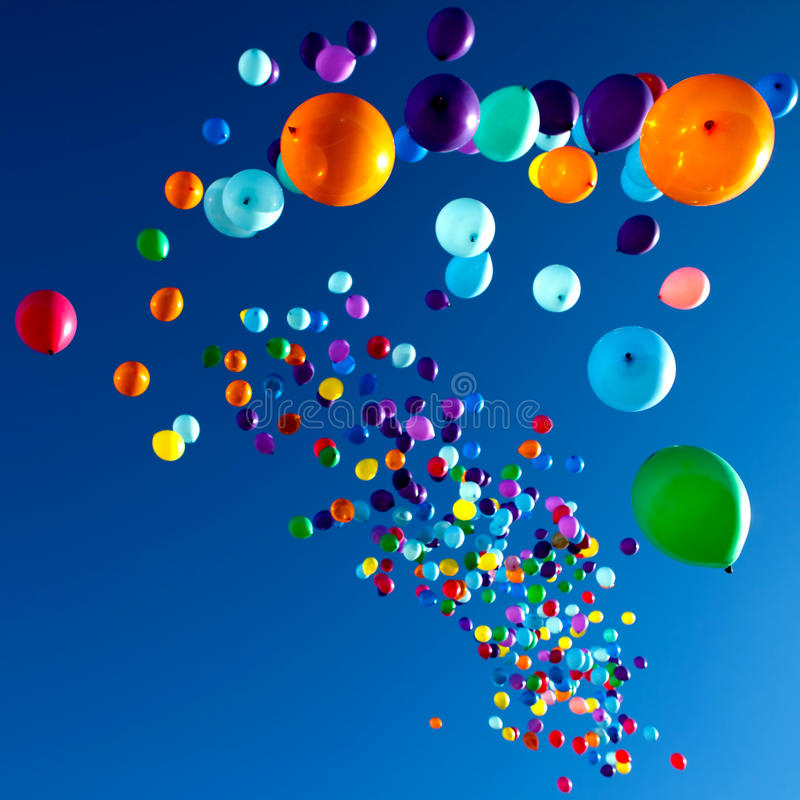Balloon: (640, 75, 775, 206), (634, 444, 750, 567), (280, 92, 395, 205), (587, 325, 676, 412), (404, 74, 480, 152), (583, 74, 654, 152), (474, 85, 538, 162), (16, 289, 76, 354), (223, 169, 284, 230), (435, 197, 493, 257), (538, 146, 596, 204), (427, 7, 475, 62), (532, 264, 581, 313), (658, 267, 711, 310), (445, 255, 494, 299), (617, 214, 661, 254), (315, 45, 356, 83), (165, 171, 203, 210), (238, 48, 272, 87), (114, 361, 150, 396), (150, 287, 184, 322), (137, 228, 170, 261), (347, 20, 377, 56), (153, 430, 185, 462), (172, 414, 199, 443), (202, 117, 230, 144), (405, 416, 436, 440), (225, 380, 250, 407), (244, 306, 269, 333), (392, 343, 416, 370), (330, 498, 354, 525), (266, 337, 290, 361), (366, 336, 390, 359), (327, 339, 351, 362), (287, 307, 311, 330), (289, 516, 314, 538), (425, 289, 450, 311), (328, 271, 353, 293), (417, 357, 439, 381), (371, 489, 393, 513), (223, 350, 247, 372), (319, 378, 344, 399), (294, 361, 315, 386), (278, 413, 301, 435), (236, 408, 258, 431), (346, 296, 369, 318), (355, 459, 377, 481), (443, 526, 464, 549), (453, 499, 476, 520), (379, 417, 402, 438), (363, 402, 383, 426), (357, 373, 377, 397), (318, 447, 340, 468), (518, 440, 542, 459), (415, 501, 436, 522), (254, 432, 275, 453), (559, 516, 579, 538), (353, 499, 371, 523), (514, 492, 535, 512), (385, 449, 405, 470), (566, 648, 585, 670), (459, 481, 481, 500), (392, 468, 411, 490), (596, 566, 616, 586), (464, 392, 483, 413), (315, 510, 334, 531), (403, 539, 422, 560), (202, 345, 220, 367), (565, 455, 585, 474), (441, 423, 461, 442), (442, 398, 462, 417), (348, 424, 368, 443), (532, 415, 553, 433), (499, 479, 520, 497), (405, 396, 427, 413), (428, 457, 447, 476), (380, 534, 399, 553), (533, 453, 553, 471), (619, 537, 639, 555), (397, 431, 414, 452), (264, 377, 281, 398), (392, 509, 414, 525), (495, 508, 513, 527), (533, 541, 552, 559), (506, 606, 525, 624), (442, 580, 461, 598), (478, 553, 498, 570), (569, 697, 589, 714), (439, 559, 459, 576), (516, 626, 532, 647), (501, 464, 522, 480), (591, 667, 609, 685), (528, 585, 546, 603), (464, 571, 482, 589), (572, 614, 589, 633), (418, 590, 437, 607), (422, 561, 438, 581), (546, 616, 563, 634), (475, 535, 493, 552), (463, 441, 480, 459), (523, 731, 539, 750), (671, 750, 685, 771), (475, 624, 492, 641), (523, 558, 539, 576), (504, 555, 521, 571), (543, 600, 559, 617), (494, 692, 510, 709), (509, 673, 525, 690), (479, 499, 495, 516), (642, 726, 659, 742), (548, 666, 564, 683), (540, 561, 556, 578), (572, 737, 587, 754), (614, 666, 631, 681), (557, 776, 572, 792), (549, 731, 564, 747), (541, 690, 556, 706), (378, 578, 394, 593), (521, 691, 538, 705), (605, 697, 619, 714), (608, 726, 622, 743), (603, 628, 619, 642), (478, 643, 492, 659), (364, 558, 377, 575), (517, 655, 532, 669), (459, 616, 473, 631), (616, 749, 631, 763), (623, 719, 637, 734), (487, 716, 503, 729), (621, 612, 636, 625), (528, 719, 543, 732), (503, 652, 518, 665), (442, 599, 455, 614), (564, 604, 580, 616), (494, 671, 507, 685), (483, 589, 496, 603), (587, 751, 601, 764), (558, 636, 572, 649), (380, 558, 394, 571), (588, 611, 603, 623), (634, 656, 647, 669), (586, 733, 599, 746), (494, 538, 507, 551), (503, 727, 515, 741), (601, 764, 615, 776), (558, 580, 571, 592), (582, 591, 595, 603), (574, 568, 586, 581), (430, 717, 442, 729), (535, 528, 547, 540), (583, 562, 596, 573), (593, 708, 604, 721), (550, 651, 561, 662), (538, 650, 550, 660)
